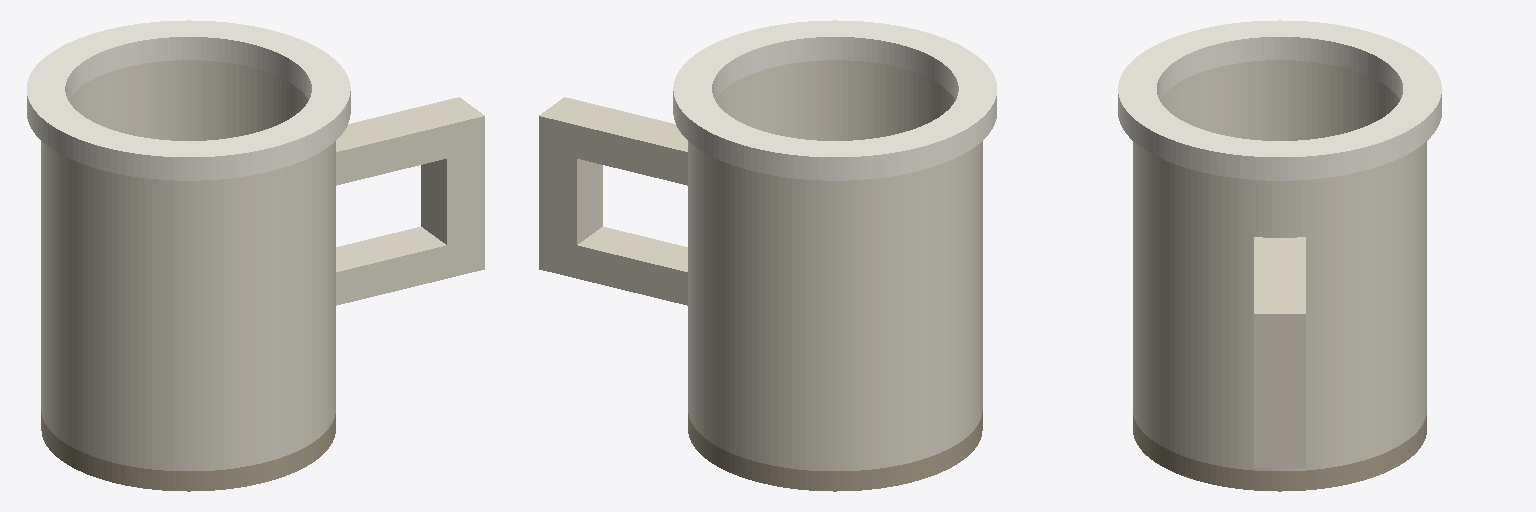
robot.urdf — mug_contact_proxy:
<robot name="mug_contact_proxy">
  <link name="body">
    <visual name="body_shell">
      <geometry>
        <mesh filename="assets/meshes/body_shell.obj" />
        </geometry>
      <material name="warm_white_ceramic">
        <color rgba="0.92 0.9 0.84 1" />
        </material>
      </visual>
    <collision name="body_shell">
      <geometry>
        <mesh filename="assets/meshes/body_shell.obj" />
        </geometry>
      </collision>
    </link>
  <link name="bottom">
    <visual name="bottom_disk">
      <geometry>
        <mesh filename="assets/meshes/bottom_disk.obj" />
        </geometry>
      <material name="unglazed_bottom">
        <color rgba="0.74 0.7 0.62 1" />
        </material>
      </visual>
    <collision name="bottom_disk">
      <geometry>
        <mesh filename="assets/meshes/bottom_disk.obj" />
        </geometry>
      </collision>
    </link>
  <link name="rim">
    <visual name="rim_lip">
      <geometry>
        <mesh filename="assets/meshes/rim_lip.obj" />
        </geometry>
      <material name="slightly_lighter_rim">
        <color rgba="0.98 0.97 0.93 1" />
        </material>
      </visual>
    <collision name="rim_lip">
      <geometry>
        <mesh filename="assets/meshes/rim_lip.obj" />
        </geometry>
      </collision>
    </link>
  <link name="handle">
    <visual name="upper_mount">
      <origin xyz="0.0605 0 0.071" rpy="0 0 0" />
      <geometry>
        <box size="0.045 0.014 0.01" />
        </geometry>
      <material name="warm_white_ceramic">
        <color rgba="0.92 0.9 0.84 1" />
        </material>
      </visual>
    <visual name="lower_mount">
      <origin xyz="0.0605 0 0.035" rpy="0 0 0" />
      <geometry>
        <box size="0.045 0.014 0.01" />
        </geometry>
      <material name="warm_white_ceramic">
        <color rgba="0.92 0.9 0.84 1" />
        </material>
      </visual>
    <visual name="outer_grip">
      <origin xyz="0.083 0 0.053" rpy="0 0 0" />
      <geometry>
        <box size="0.012 0.014 0.046" />
        </geometry>
      <material name="warm_white_ceramic">
        <color rgba="0.92 0.9 0.84 1" />
        </material>
      </visual>
    <collision name="upper_mount">
      <origin xyz="0.0605 0 0.071" rpy="0 0 0" />
      <geometry>
        <box size="0.045 0.014 0.01" />
        </geometry>
      </collision>
    <collision name="lower_mount">
      <origin xyz="0.0605 0 0.035" rpy="0 0 0" />
      <geometry>
        <box size="0.045 0.014 0.01" />
        </geometry>
      </collision>
    <collision name="outer_grip">
      <origin xyz="0.083 0 0.053" rpy="0 0 0" />
      <geometry>
        <box size="0.012 0.014 0.046" />
        </geometry>
      </collision>
    </link>
  <joint name="body_to_bottom" type="fixed">
    <parent link="body" />
    <child link="bottom" />
    </joint>
  <joint name="body_to_rim" type="fixed">
    <parent link="body" />
    <child link="rim" />
    </joint>
  <joint name="body_to_handle" type="fixed">
    <parent link="body" />
    <child link="handle" />
    </joint>
  </robot>

--- What the picture shows (computed from the rendered views, not written in the file) ---
The picture shows the robot from 3 angles, left to right: view 1: azimuth 30°, elevation 25°; view 2: azimuth 150°, elevation 25°; view 3: azimuth 270°, elevation 25°; orthographic projection.
Robot: mug_contact_proxy — 4 links, 3 joints (3 fixed); root link body; default pose: all joints at 0.
Visible links, largest first — view 1: body, rim, handle, bottom; view 2: body, rim, handle, bottom; view 3: body, rim, handle, bottom.
Link boxes in pixels (x1,y1,x2,y2): body: (41,60,335,470); rim: (27,20,350,180); handle: (336,97,484,305); bottom: (41,411,335,491); body: (688,60,982,470); rim: (673,20,996,180); handle: (539,97,687,305); bottom: (688,411,982,491); body: (1133,60,1426,470); rim: (1118,20,1441,180); handle: (1254,237,1305,467); bottom: (1133,415,1426,491).
Size in the robot's own frame: 0.133 by 0.088 by 0.102 metres.
Meshes: 3 distinct files referenced, 3 mesh visuals loaded (3 OBJ).
